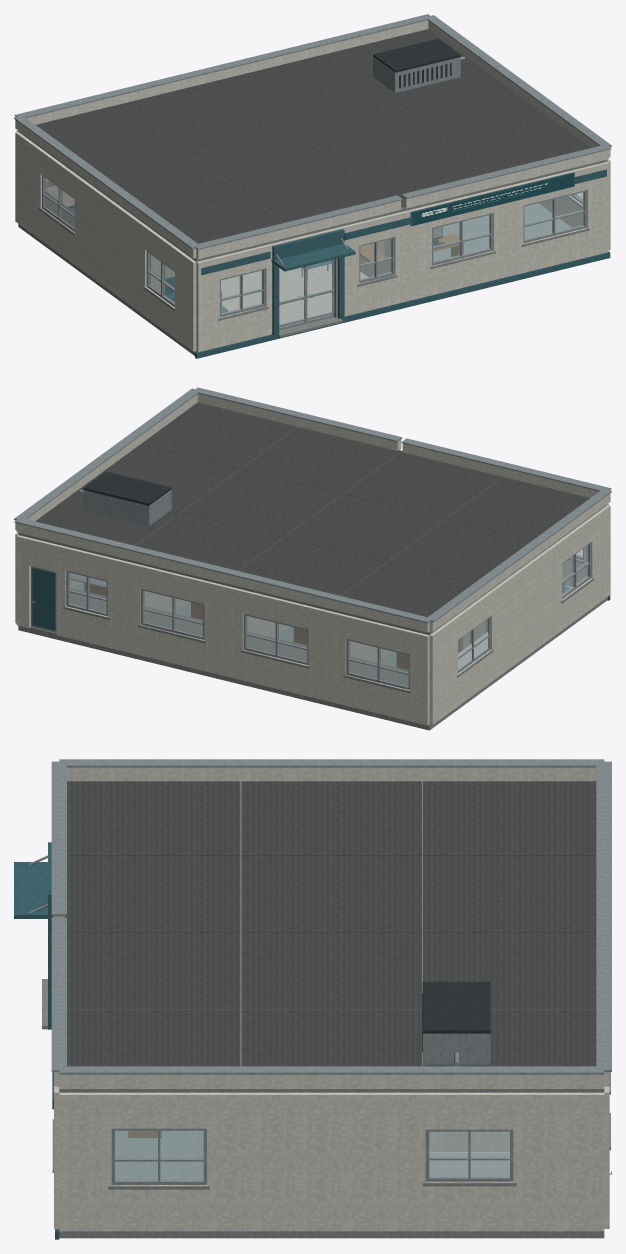
Rendered from PROJECT_Z_Medical_Clinic.glb.
3 renders of one model, top to bottom at view 1: azimuth 30°, elevation 25°; view 2: azimuth 150°, elevation 25°; view 3: azimuth 270°, elevation 25°, orthographic. The views are drawn at different scales.
Parts seen in each view (by area): view 1: MESH_Exterior_Front_ExteriorStucco, MESH_Exterior_West_ExteriorStucco, MESH_Membrane_RoofTile_03_02_Removable_RoofMembrane, MESH_Membrane_RoofTile_02_02_Removable_RoofMembrane, MESH_Membrane_RoofTile_03_03_Removable_RoofMembrane, MESH_Membrane_RoofTile_02_03_Removable_RoofMembrane, MESH_Membrane_RoofTile_04_02_Removable_RoofMembrane, MESH_Membrane_RoofTile_01_02_Removable_RoofMembrane, MESH_Membrane_RoofTile_01_03_Removable_RoofMembrane, MESH_Membrane_RoofTile_03_01_Removable_RoofMembrane, MESH_Membrane_RoofTile_02_01_Removable_RoofMembrane, MESH_Membrane_RoofTile_04_01_Removable_RoofMembrane (+43 smaller); view 2: MESH_Exterior_Rear_ExteriorStucco, MESH_Exterior_West_ExteriorStucco, MESH_Membrane_RoofTile_02_02_Removable_RoofMembrane, MESH_Membrane_RoofTile_03_02_Removable_RoofMembrane, MESH_Membrane_RoofTile_03_01_Removable_RoofMembrane, MESH_Membrane_RoofTile_02_01_Removable_RoofMembrane, MESH_Membrane_RoofTile_04_01_Removable_RoofMembrane, MESH_Membrane_RoofTile_01_02_Removable_RoofMembrane, MESH_Membrane_RoofTile_01_01_Removable_RoofMembrane, MESH_Membrane_RoofTile_02_03_Removable_RoofMembrane, MESH_Membrane_RoofTile_03_03_Removable_RoofMembrane, MESH_Membrane_RoofTile_04_02_Removable_RoofMembrane (+34 smaller); view 3: MESH_Exterior_East_ExteriorStucco, MESH_Membrane_RoofTile_03_02_Removable_RoofMembrane, MESH_Membrane_RoofTile_02_02_Removable_RoofMembrane, MESH_Membrane_RoofTile_01_02_Removable_RoofMembrane, MESH_Membrane_RoofTile_03_01_Removable_RoofMembrane, MESH_Membrane_RoofTile_02_01_Removable_RoofMembrane, MESH_Membrane_RoofTile_02_03_Removable_RoofMembrane, MESH_Membrane_RoofTile_01_01_Removable_RoofMembrane, MESH_Membrane_RoofTile_01_03_Removable_RoofMembrane, MESH_Membrane_RoofTile_03_03_Removable_RoofMembrane, MESH_Membrane_RoofTile_04_02_Removable_RoofMembrane, MESH_Membrane_RoofTile_04_01_Removable_RoofMembrane (+24 smaller).
Boxes of the visible parts, x1,y1,x2,y2 form: MESH_Exterior_Front_ExteriorStucco: (196, 161, 609, 352); MESH_Exterior_West_ExteriorStucco: (15, 131, 196, 351); MESH_Membrane_RoofTile_03_02_Removable_RoofMembrane: (284, 96, 444, 163); MESH_Membrane_RoofTile_02_02_Removable_RoofMembrane: (181, 121, 341, 188); MESH_Membrane_RoofTile_03_03_Removable_RoofMembrane: (226, 53, 385, 120); MESH_Membrane_RoofTile_02_03_Removable_RoofMembrane: (123, 78, 282, 145); MESH_Membrane_RoofTile_04_02_Removable_RoofMembrane: (387, 71, 544, 138); MESH_Membrane_RoofTile_01_02_Removable_RoofMembrane: (93, 146, 238, 210); MESH_Membrane_RoofTile_01_03_Removable_RoofMembrane: (36, 103, 179, 166); MESH_Membrane_RoofTile_03_01_Removable_RoofMembrane: (343, 139, 490, 207); MESH_Membrane_RoofTile_02_01_Removable_RoofMembrane: (240, 164, 387, 222); MESH_Membrane_RoofTile_04_01_Removable_RoofMembrane: (446, 115, 590, 172); MESH_Exterior_Rear_ExteriorStucco: (16, 535, 429, 725); MESH_Exterior_West_ExteriorStucco: (429, 505, 610, 724); MESH_Membrane_RoofTile_02_02_Removable_RoofMembrane: (284, 494, 444, 562); MESH_Membrane_RoofTile_03_02_Removable_RoofMembrane: (181, 469, 341, 537); MESH_Membrane_RoofTile_03_01_Removable_RoofMembrane: (240, 427, 401, 493); MESH_Membrane_RoofTile_02_01_Removable_RoofMembrane: (343, 450, 502, 518); MESH_Membrane_RoofTile_04_01_Removable_RoofMembrane: (140, 402, 296, 468); MESH_Membrane_RoofTile_01_02_Removable_RoofMembrane: (387, 519, 532, 583); MESH_Membrane_RoofTile_01_01_Removable_RoofMembrane: (446, 477, 589, 540); MESH_Membrane_RoofTile_02_03_Removable_RoofMembrane: (238, 537, 385, 595); MESH_Membrane_RoofTile_03_03_Removable_RoofMembrane: (135, 512, 282, 570); MESH_Membrane_RoofTile_04_02_Removable_RoofMembrane: (81, 444, 238, 512); MESH_Exterior_East_ExteriorStucco: (59, 1092, 604, 1231); MESH_Membrane_RoofTile_03_02_Removable_RoofMembrane: (241, 932, 421, 1009); MESH_Membrane_RoofTile_02_02_Removable_RoofMembrane: (241, 856, 421, 932); MESH_Membrane_RoofTile_01_02_Removable_RoofMembrane: (241, 781, 421, 855); MESH_Membrane_RoofTile_03_01_Removable_RoofMembrane: (67, 932, 240, 1009); MESH_Membrane_RoofTile_02_01_Removable_RoofMembrane: (65, 856, 240, 932); MESH_Membrane_RoofTile_02_03_Removable_RoofMembrane: (423, 856, 596, 932); MESH_Membrane_RoofTile_01_01_Removable_RoofMembrane: (67, 781, 240, 855); MESH_Membrane_RoofTile_01_03_Removable_RoofMembrane: (423, 781, 596, 855); MESH_Membrane_RoofTile_03_03_Removable_RoofMembrane: (423, 932, 596, 1009); MESH_Membrane_RoofTile_04_02_Removable_RoofMembrane: (241, 1009, 421, 1066); MESH_Membrane_RoofTile_04_01_Removable_RoofMembrane: (67, 1009, 240, 1066).
Size of the model in its own units: 16.34 by 4.55 by 13.17.
Materials: 13 (11 with a texture image).
